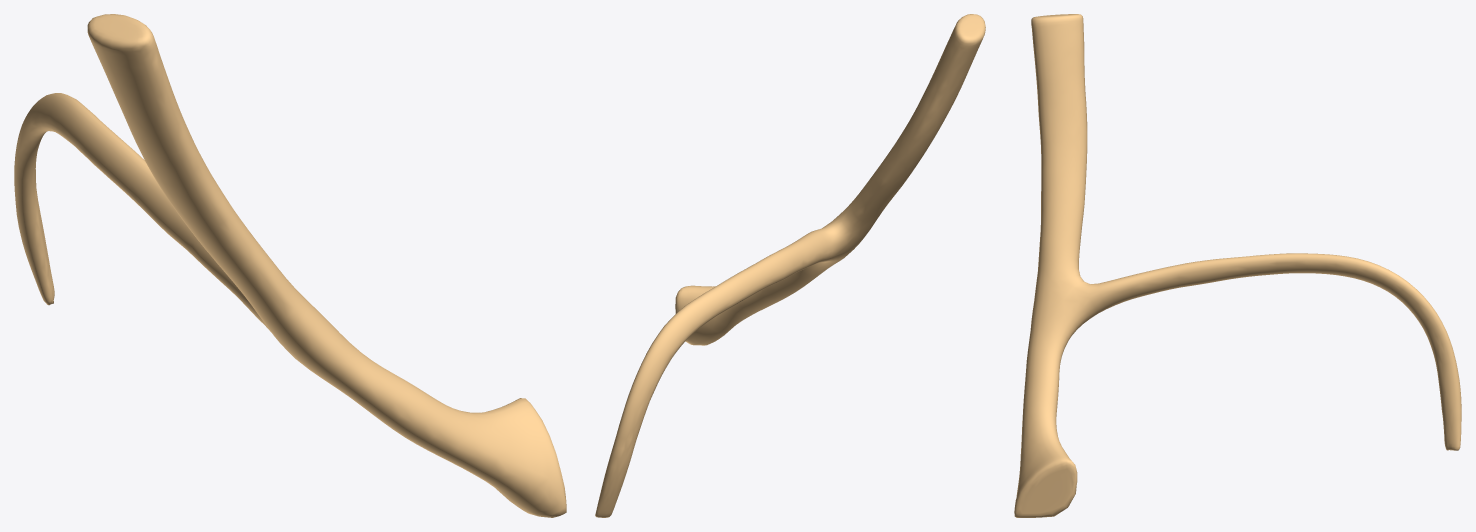
3 renders of one model, left to right at view 1: azimuth 30°, elevation 25°; view 2: azimuth 150°, elevation 25°; view 3: azimuth 270°, elevation 25°, orthographic. The views are drawn at different scales.
Parts seen in each view (by area): view 1: N_C3.obj; view 2: N_C3.obj; view 3: N_C3.obj.
Boxes of the visible parts, x1,y1,x2,y2 form: N_C3.obj: (14, 14, 566, 517); N_C3.obj: (595, 14, 985, 517); N_C3.obj: (1014, 14, 1461, 517).
Size of the model in its own units: 0.000724 by 0.000911 by 0.000982.
